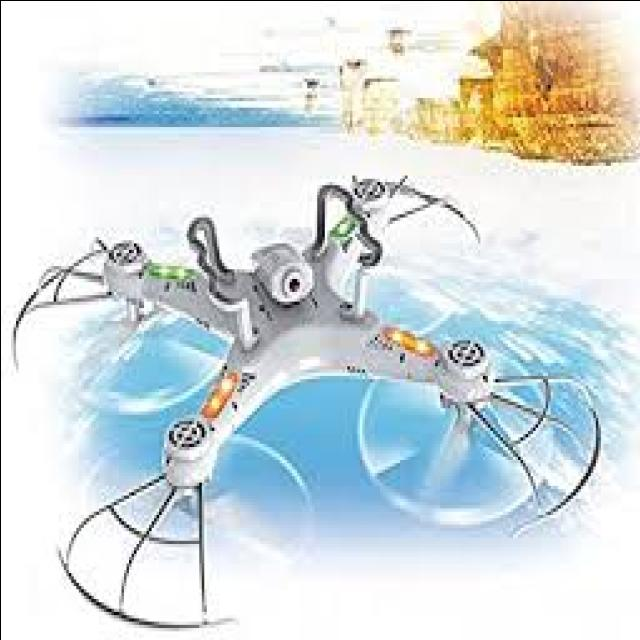drone: (0, 154, 610, 632)
